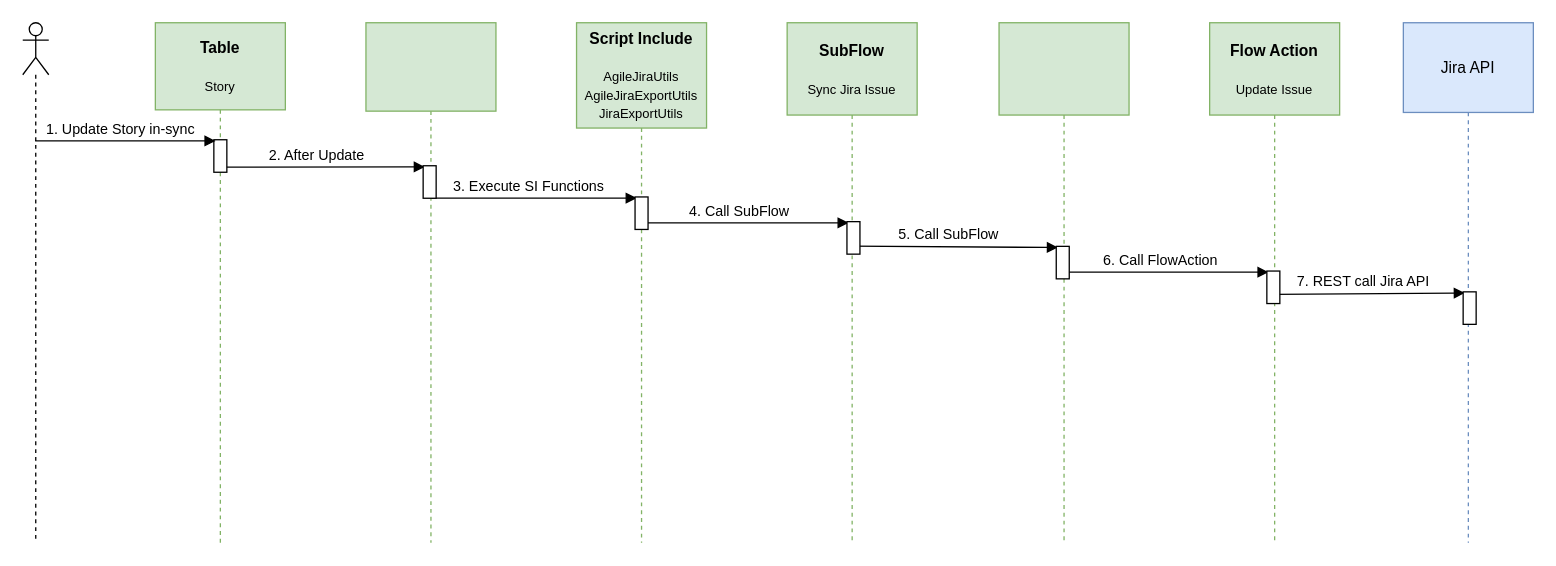
The diagram is 1556 pixels wide and 566 high, and some of its shapes have lost their labels. The box of each missing label's shape, as (x1, y1, x2, y2) in pixels:
Business Rule Synch Story with Jira: (365, 21, 496, 543)
SubFlow Update Jira Issue and process: (998, 21, 1129, 543)
